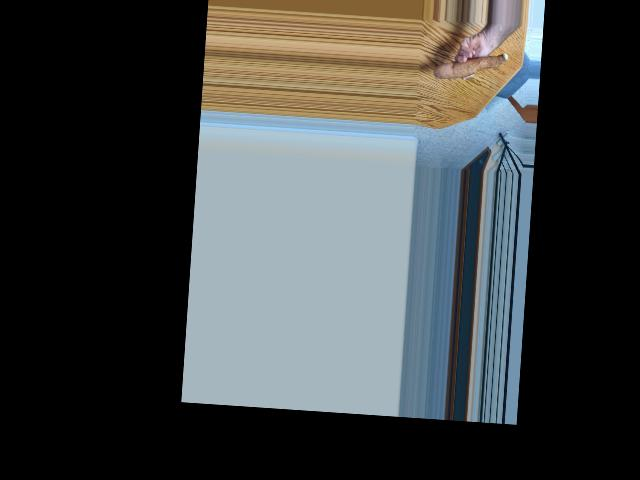sweet_potato: (436, 41, 508, 86)
